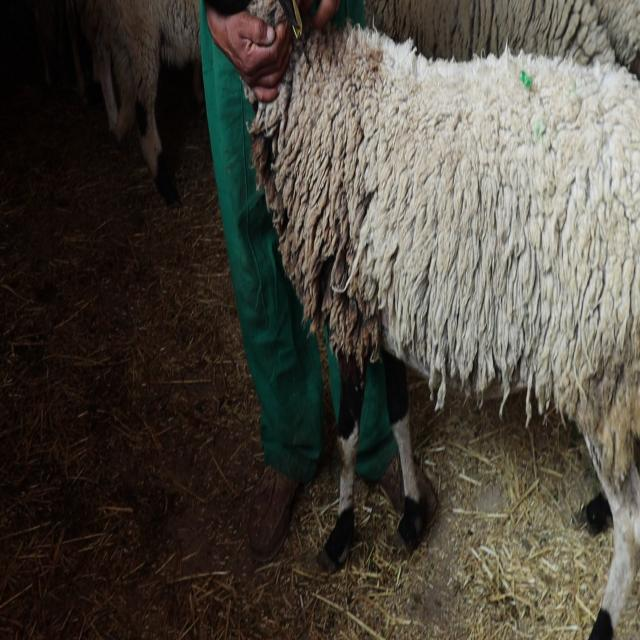Score_2: (250, 24, 640, 639)
